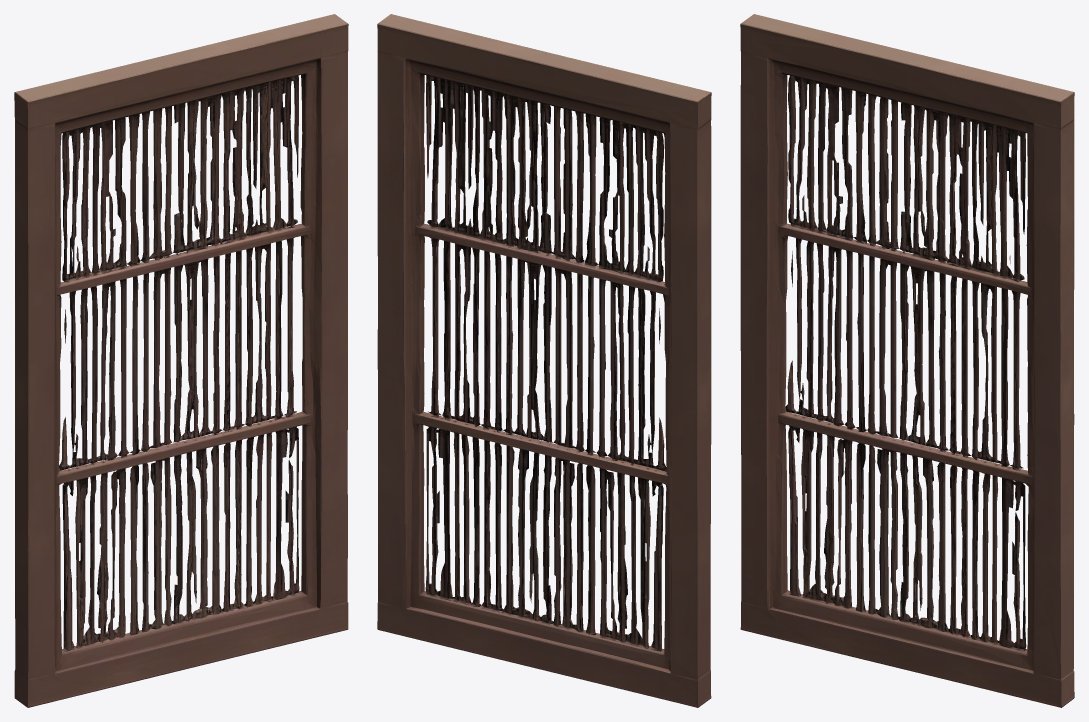
3 renders of one model, left to right at view 1: azimuth 30°, elevation 25°; view 2: azimuth 150°, elevation 25°; view 3: azimuth 330°, elevation 25°, orthographic.
Parts seen in each view (by area): view 1: world; view 2: world; view 3: world.
Part boxes in pixels (bbox=[...]): world: bbox=[14, 14, 348, 707]; world: bbox=[377, 14, 711, 707]; world: bbox=[740, 14, 1074, 707].
Bounding box in the file's own units: 0.5541 × 1 × 0.0415.
1 material, 1 textured.
